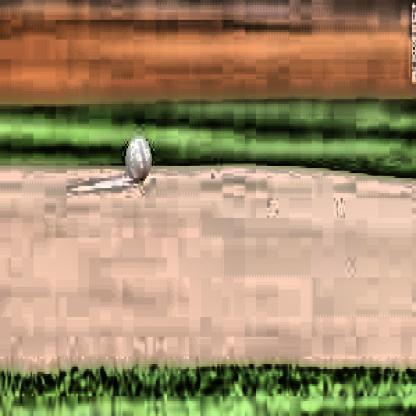baseball: (127, 136, 152, 185)
